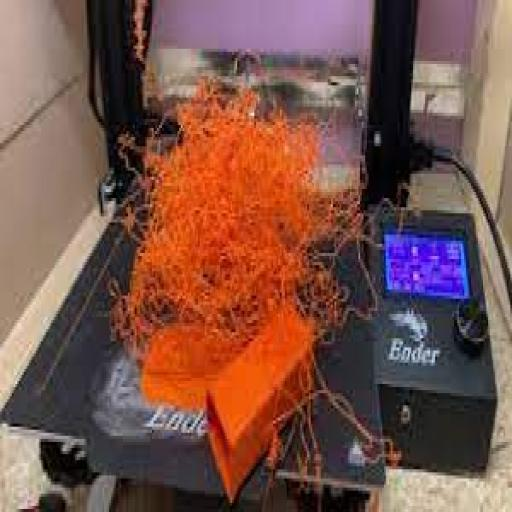spaghetti: (72, 40, 374, 403)
